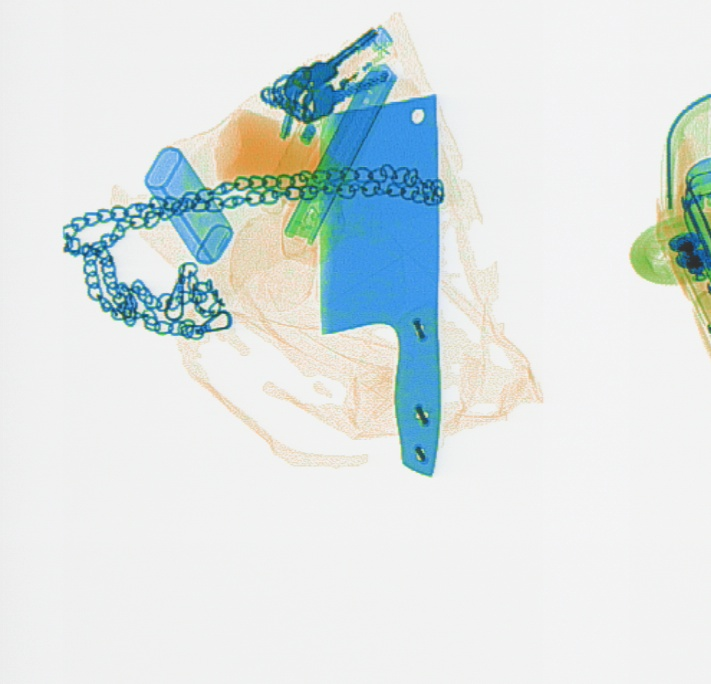knife: (316, 93, 442, 474), (280, 61, 397, 265)
lighter: (302, 24, 399, 96)
